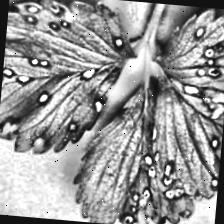Leaf Spot: (0, 0, 142, 163), (67, 71, 213, 224), (139, 3, 224, 201)
